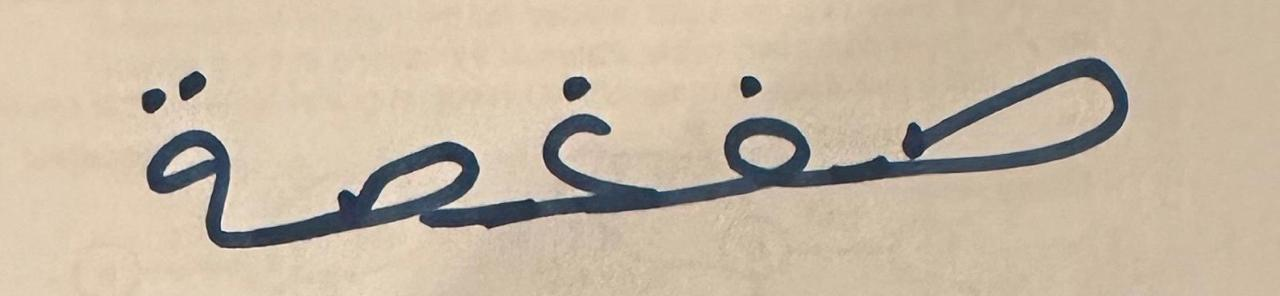feh: (669, 4, 856, 256)
ghain: (497, 4, 664, 258)
seen: (859, 0, 1197, 253), (286, 19, 492, 273)
thal: (104, 19, 282, 273)
